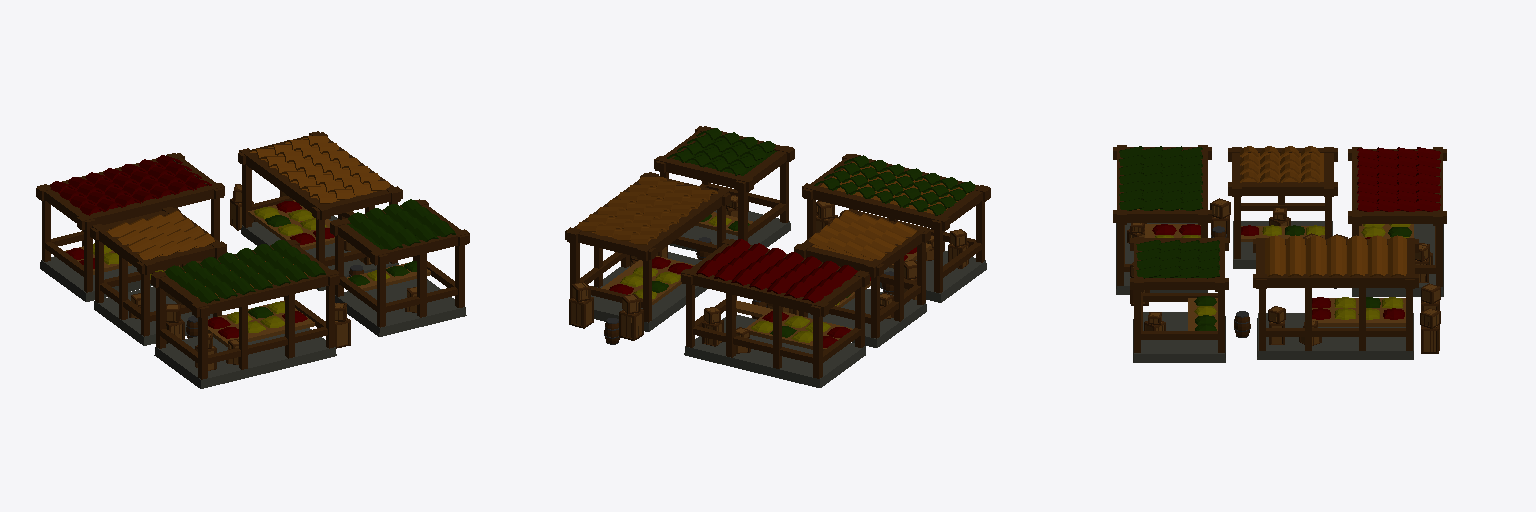
Rendered from Market_SecondAge_Level3_Cube.obj.
3 views of the same model, side by side, from view 1: azimuth 30°, elevation 25°; view 2: azimuth 150°, elevation 25°; view 3: azimuth 270°, elevation 25° (orthographic).
Visible parts, largest first — view 1: Market_SecondAge_Level3_Cube.015; view 2: Market_SecondAge_Level3_Cube.015; view 3: Market_SecondAge_Level3_Cube.015.
Part boxes in pixels (left/top/right/bottom): Market_SecondAge_Level3_Cube.015: left=36, top=131, right=469, bottom=388; Market_SecondAge_Level3_Cube.015: left=565, top=126, right=990, bottom=387; Market_SecondAge_Level3_Cube.015: left=1113, top=145, right=1446, bottom=362.
Bounding box in the file's own units: 1.93 × 0.6571 × 1.99.